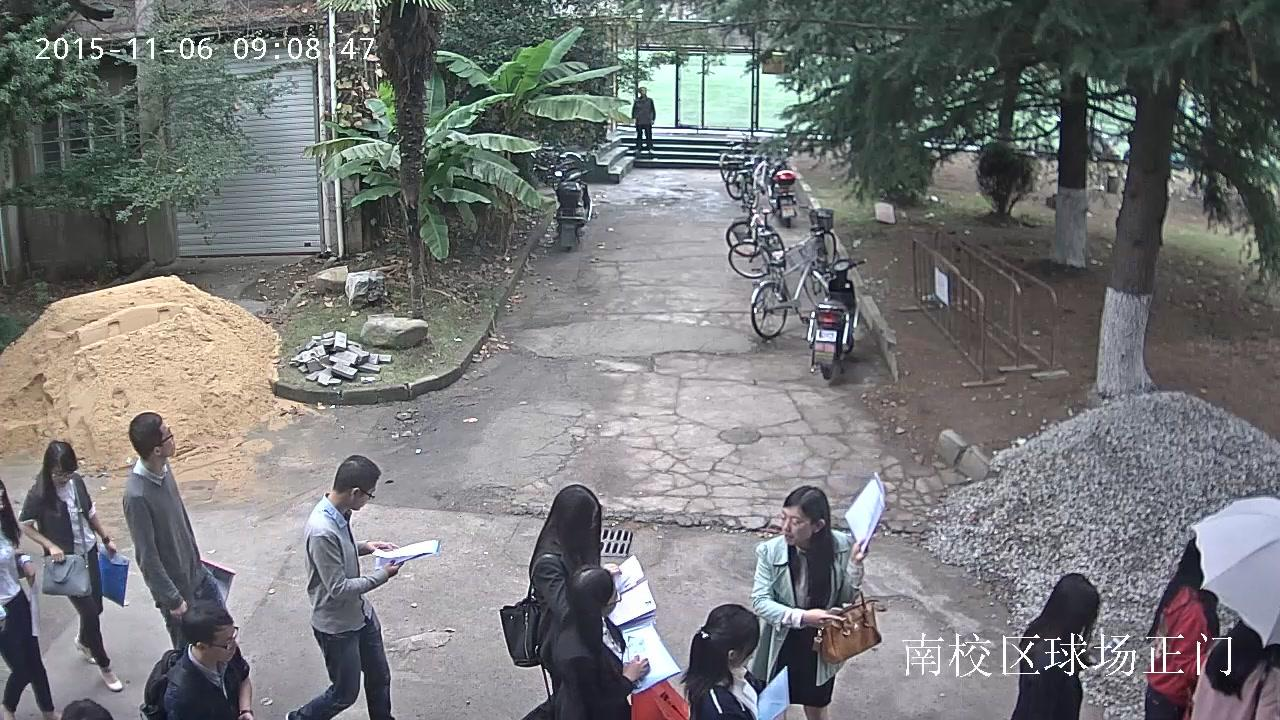face: (780, 505, 813, 546), (206, 624, 238, 663), (736, 639, 759, 666), (160, 419, 175, 456), (52, 461, 74, 486), (355, 485, 376, 511), (602, 586, 617, 616), (590, 505, 599, 530), (0, 488, 5, 511), (640, 87, 645, 94)
